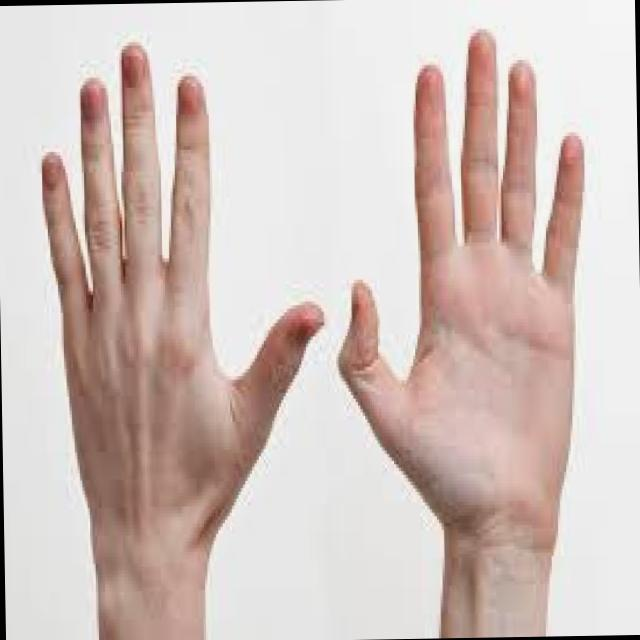Hand: (34, 30, 328, 553), (328, 21, 598, 555)
